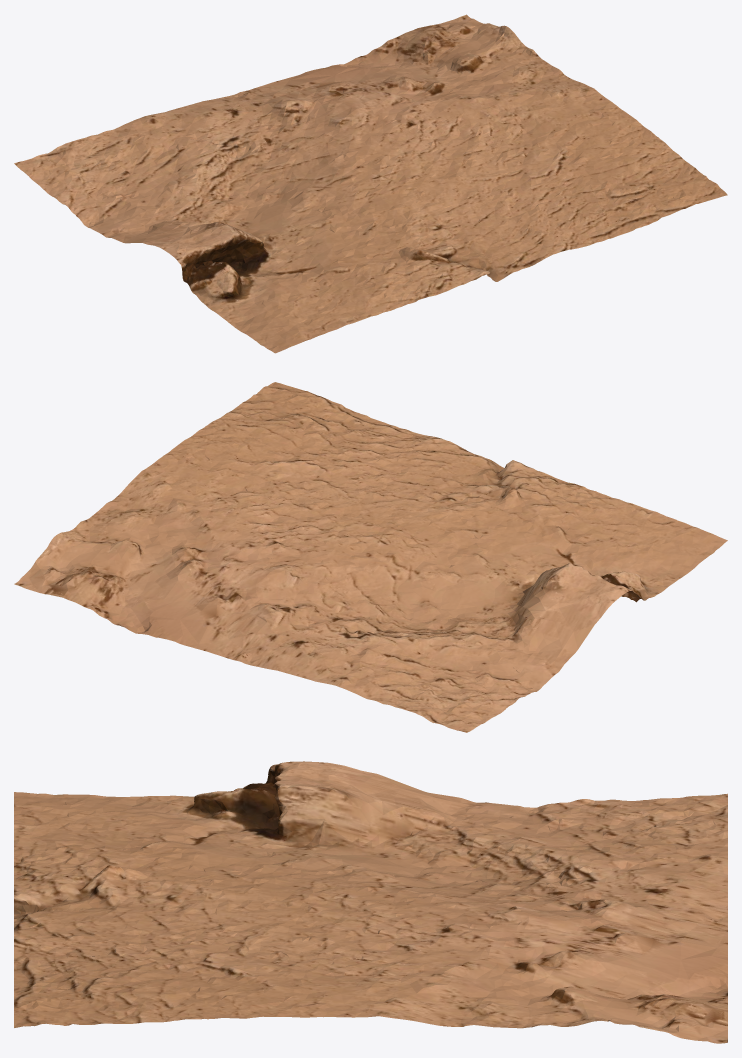
3 views of the same model, one above another, from view 1: azimuth 30°, elevation 25°; view 2: azimuth 150°, elevation 25°; view 3: azimuth 270°, elevation 25° (orthographic). The views are drawn at different scales.
Bounding box in the file's own units: 2.09 × 0.3024 × 2.09.
2 materials, 2 textured.
